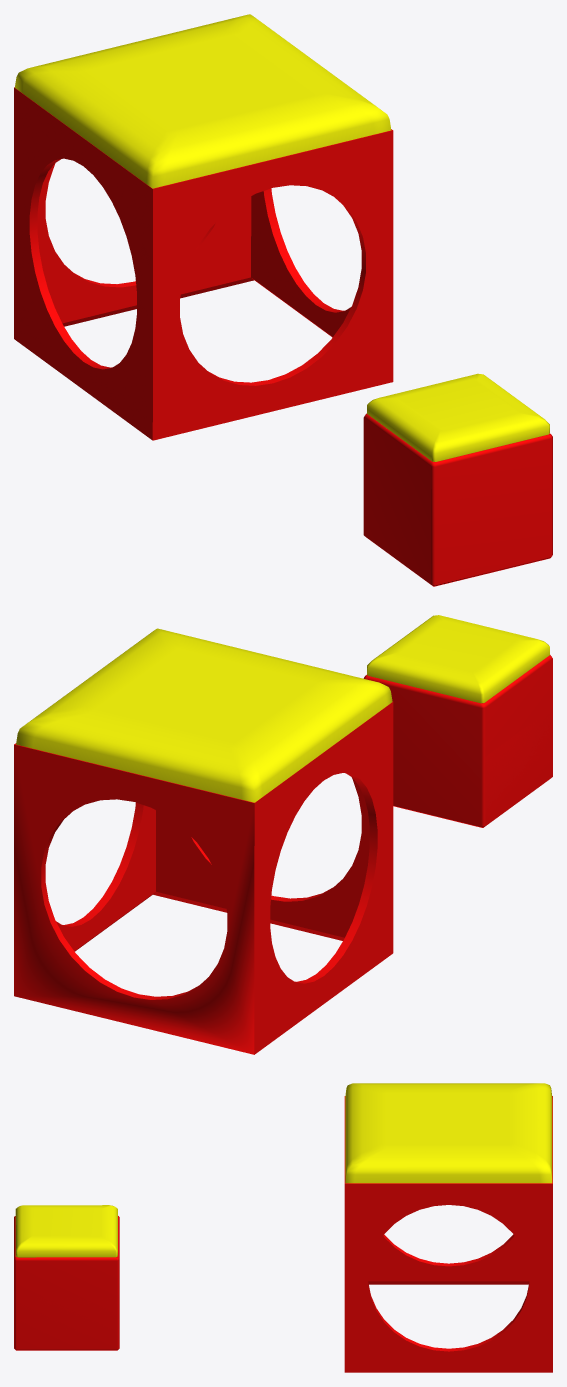
File: footstools_grp.fbx
The picture shows the model from 3 angles, top to bottom: view 1: azimuth 30°, elevation 25°; view 2: azimuth 150°, elevation 25°; view 3: azimuth 270°, elevation 25°; orthographic projection. The views are drawn at different scales.
Parts seen in each view (by area): view 1: footstool_2, footstool_1_1; view 2: footstool_2, footstool_1_1, footstool_1_2; view 3: footstool_2, footstool_1_1.
Boxes of the visible parts, x1=… form: footstool_2: x1=14, y1=14, x2=393, y2=440; footstool_1_1: x1=363, y1=373, x2=552, y2=586; footstool_2: x1=14, y1=628, x2=393, y2=1054; footstool_1_1: x1=363, y1=615, x2=552, y2=827; footstool_1_2: x1=393, y1=710, x2=552, y2=826; footstool_2: x1=344, y1=1083, x2=552, y2=1372; footstool_1_1: x1=14, y1=1205, x2=119, y2=1350.
Size of the model in its own units: 54.5 by 60.58 by 141.
